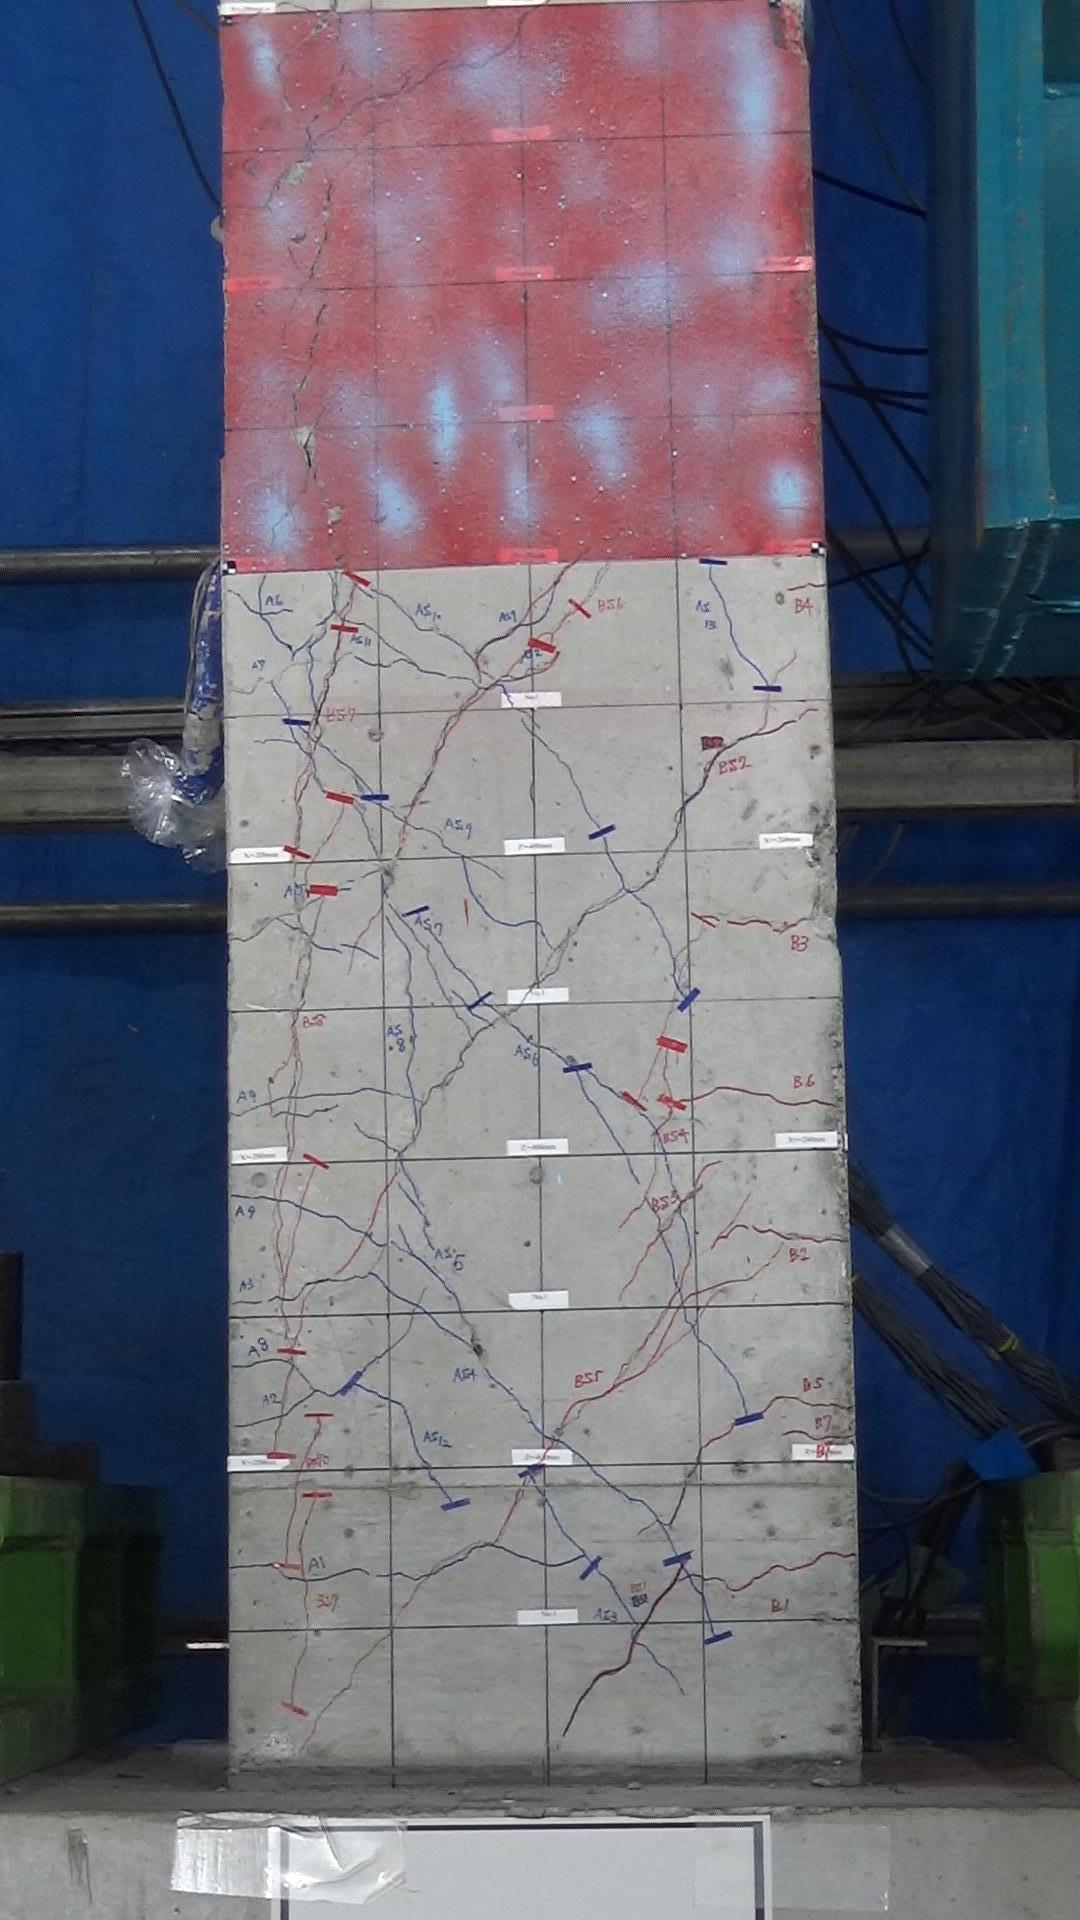Bond Crack: (287, 767, 307, 849), (301, 1418, 324, 1468), (285, 1021, 305, 1063), (301, 947, 315, 1004), (315, 669, 335, 709), (282, 1515, 298, 1565), (284, 1116, 301, 1159), (287, 1472, 305, 1515), (286, 866, 302, 913), (404, 1084, 419, 1125), (400, 971, 415, 1007), (305, 1495, 318, 1539), (460, 858, 476, 894), (658, 928, 676, 957), (270, 1207, 284, 1245), (405, 1052, 418, 1091), (328, 574, 342, 612), (289, 1205, 305, 1237), (661, 1072, 676, 1102), (298, 1534, 309, 1578), (407, 1011, 419, 1048), (273, 1164, 286, 1197), (301, 1170, 314, 1203), (295, 1317, 309, 1348), (257, 575, 268, 612), (663, 1242, 676, 1271), (665, 1154, 675, 1189), (285, 1242, 295, 1275), (662, 1047, 673, 1077), (682, 1305, 694, 1329), (401, 944, 411, 968), (651, 1154, 659, 1185), (651, 1131, 659, 1155)
Flexure Crack: (782, 1427, 855, 1444), (766, 1553, 808, 1576), (251, 735, 298, 752), (229, 1294, 280, 1309), (455, 1542, 493, 1561), (757, 1391, 789, 1415), (810, 1547, 857, 1563), (233, 1414, 280, 1429), (228, 1189, 272, 1205), (229, 1106, 269, 1124), (232, 1360, 287, 1371), (360, 1080, 389, 1101), (287, 1660, 301, 1706), (599, 1660, 632, 1679), (815, 1396, 853, 1412), (265, 916, 299, 934), (521, 1551, 549, 1572), (549, 1555, 583, 1571), (229, 931, 266, 945), (324, 1273, 364, 1286), (233, 1561, 273, 1575), (284, 1280, 306, 1303), (330, 1565, 371, 1577), (297, 1631, 310, 1665), (298, 1601, 313, 1631), (690, 1572, 727, 1584), (276, 1093, 322, 1102), (790, 1394, 814, 1411), (298, 1581, 313, 1607), (356, 655, 381, 670), (378, 1569, 409, 1581), (502, 919, 537, 928), (723, 1275, 752, 1286), (498, 1545, 520, 1560), (324, 1091, 355, 1100)
Shear Crack: (483, 1371, 524, 1404), (425, 1468, 456, 1507), (582, 891, 626, 919), (353, 1346, 386, 1381), (584, 563, 611, 603), (297, 1716, 320, 1756), (343, 1654, 372, 1687), (396, 1185, 423, 1220), (400, 1422, 425, 1458), (579, 793, 604, 829), (392, 1283, 421, 1313), (318, 1689, 352, 1714), (603, 847, 626, 882), (613, 1204, 645, 1230), (473, 898, 505, 924), (538, 951, 564, 982), (393, 1222, 418, 1255), (367, 1625, 393, 1655), (622, 1154, 645, 1189), (448, 1007, 473, 1039), (662, 1665, 687, 1697), (353, 1124, 386, 1147), (775, 651, 799, 684), (560, 1704, 582, 1741), (390, 1316, 413, 1350), (400, 1162, 422, 1196), (353, 1383, 389, 1404), (343, 940, 378, 961), (266, 680, 291, 709), (562, 1398, 585, 1428), (578, 1673, 601, 1704), (361, 899, 384, 931), (429, 1071, 460, 1093), (696, 1160, 724, 1185), (290, 725, 310, 760), (419, 1258, 446, 1283), (265, 624, 291, 649), (426, 1313, 454, 1337), (640, 1642, 663, 1669), (679, 1464, 699, 1497), (443, 1288, 468, 1313), (405, 1582, 429, 1609), (367, 1266, 390, 1292), (454, 1038, 473, 1069), (554, 611, 580, 634), (690, 770, 711, 799), (700, 1429, 733, 1448), (397, 1292, 427, 1312), (343, 1242, 367, 1267), (732, 728, 756, 753), (589, 1101, 612, 1127), (433, 1557, 455, 1584), (559, 1441, 587, 1462), (725, 1364, 742, 1396), (560, 1531, 585, 1553), (563, 764, 584, 790), (645, 1046, 662, 1077), (679, 1188, 704, 1209), (390, 1396, 410, 1423), (509, 1487, 525, 1520), (595, 1383, 618, 1404), (669, 1495, 684, 1527), (524, 1410, 543, 1435), (607, 1127, 626, 1153), (771, 715, 796, 735), (700, 1338, 720, 1364), (377, 1176, 394, 1204), (591, 1466, 613, 1487), (435, 833, 458, 855), (659, 1530, 679, 1553), (638, 1240, 657, 1265), (309, 1209, 340, 1224), (574, 1073, 589, 1102), (705, 1605, 720, 1636), (676, 796, 694, 823), (541, 737, 560, 760), (233, 592, 253, 615), (436, 978, 452, 1006), (423, 953, 440, 978), (411, 782, 429, 807), (365, 1205, 381, 1232), (621, 1601, 640, 1623), (679, 1255, 692, 1286), (496, 1519, 512, 1544), (649, 1309, 665, 1335), (665, 1284, 680, 1309), (365, 831, 381, 856), (666, 825, 682, 851), (411, 934, 430, 955), (392, 1604, 409, 1626), (618, 1278, 636, 1300), (603, 1577, 620, 1600), (654, 853, 669, 880), (637, 1076, 651, 1102), (384, 804, 404, 823), (522, 723, 541, 742), (617, 1356, 638, 1373), (342, 760, 359, 781), (406, 658, 427, 675), (657, 1013, 674, 1034), (617, 1489, 640, 1505), (313, 625, 328, 647), (663, 1212, 678, 1236), (666, 986, 678, 1015), (443, 712, 462, 731), (545, 1503, 562, 1523), (634, 1335, 651, 1354), (454, 640, 473, 657), (313, 837, 328, 858), (419, 624, 444, 637), (320, 741, 338, 760), (385, 919, 401, 939), (352, 806, 368, 825), (326, 819, 342, 839), (433, 735, 448, 754), (372, 587, 396, 600), (709, 749, 723, 771), (644, 905, 659, 923), (415, 823, 435, 837), (426, 757, 438, 781), (433, 669, 456, 680), (347, 1222, 365, 1237), (529, 1476, 542, 1495), (398, 604, 414, 620), (375, 626, 389, 644), (647, 1505, 662, 1522), (459, 1335, 473, 1352), (630, 1261, 644, 1278), (393, 644, 410, 657), (334, 803, 345, 822), (629, 890, 644, 905), (347, 618, 368, 628)
